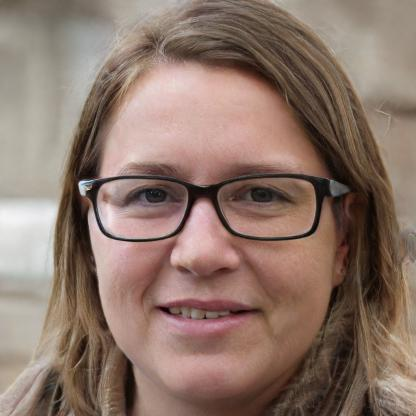glasses: (80, 166, 332, 244)
